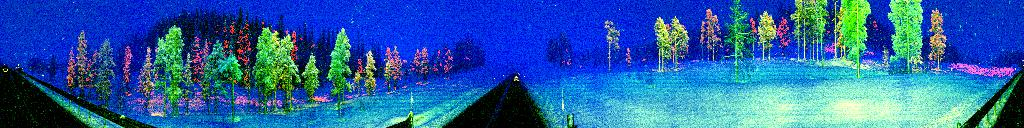pole: (560, 84, 565, 128), (410, 83, 414, 128)
